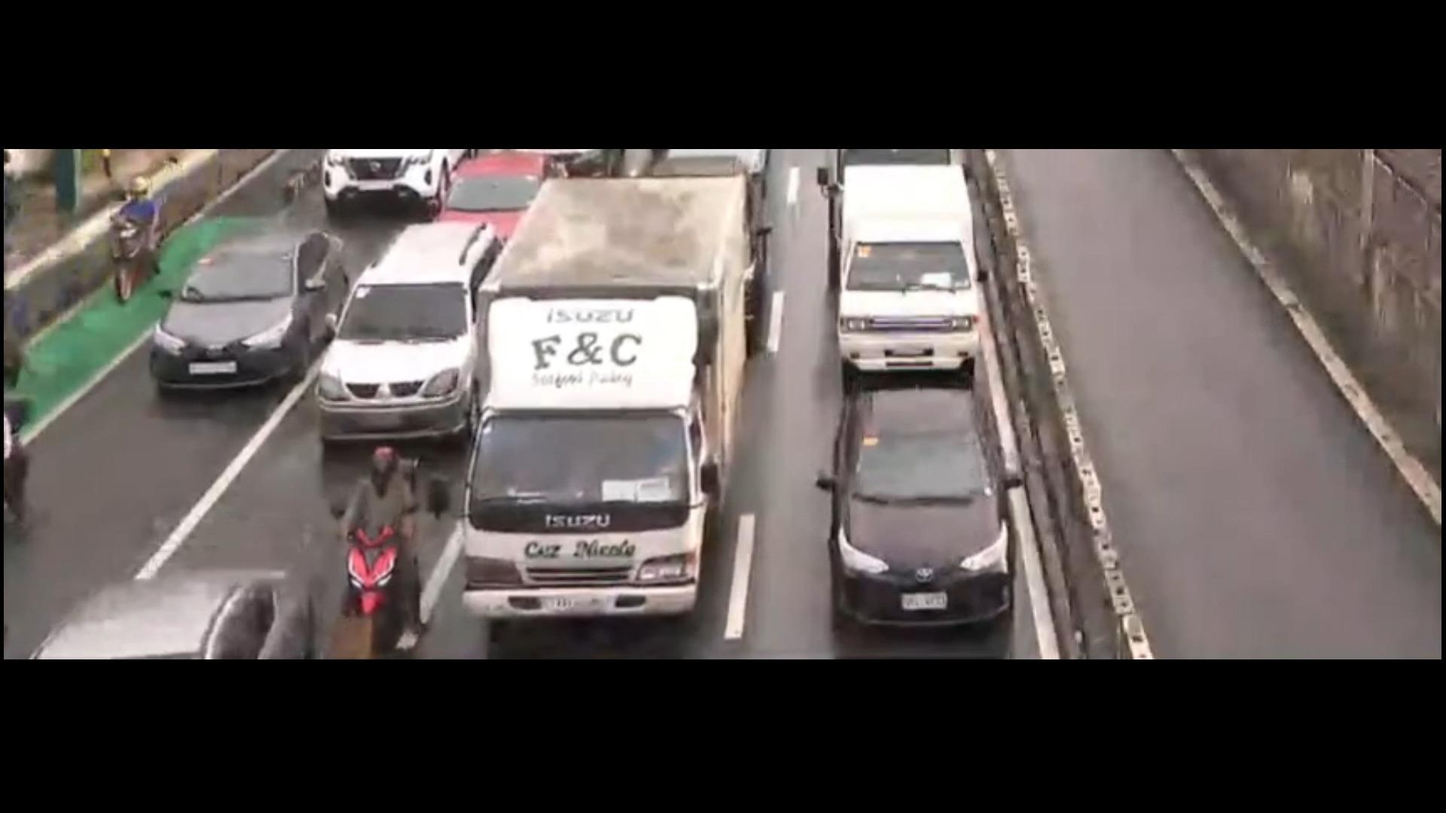Motorcycle: (322, 431, 448, 657), (100, 179, 179, 321)
Multicab: (820, 153, 997, 385)
SUV: (315, 222, 506, 453), (310, 145, 462, 237)
Sedan: (780, 380, 1032, 638), (141, 209, 358, 406), (18, 550, 305, 659), (433, 155, 569, 237)
Truck: (435, 175, 784, 624)
